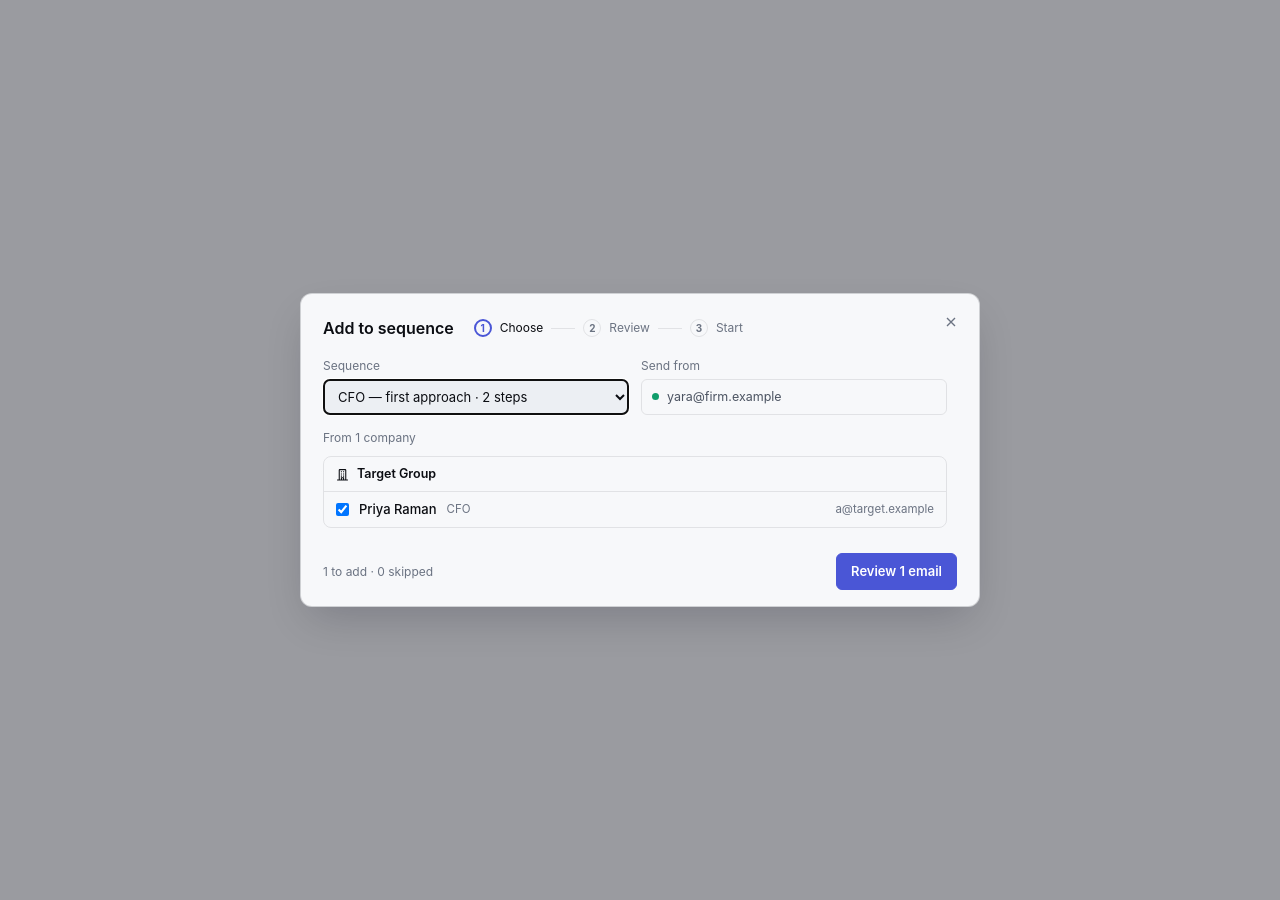
Test case: EnrolDialog › will not start at a time already past
Click the button "Review 1 email".
click(897, 571)  # box [836,553,957,590]
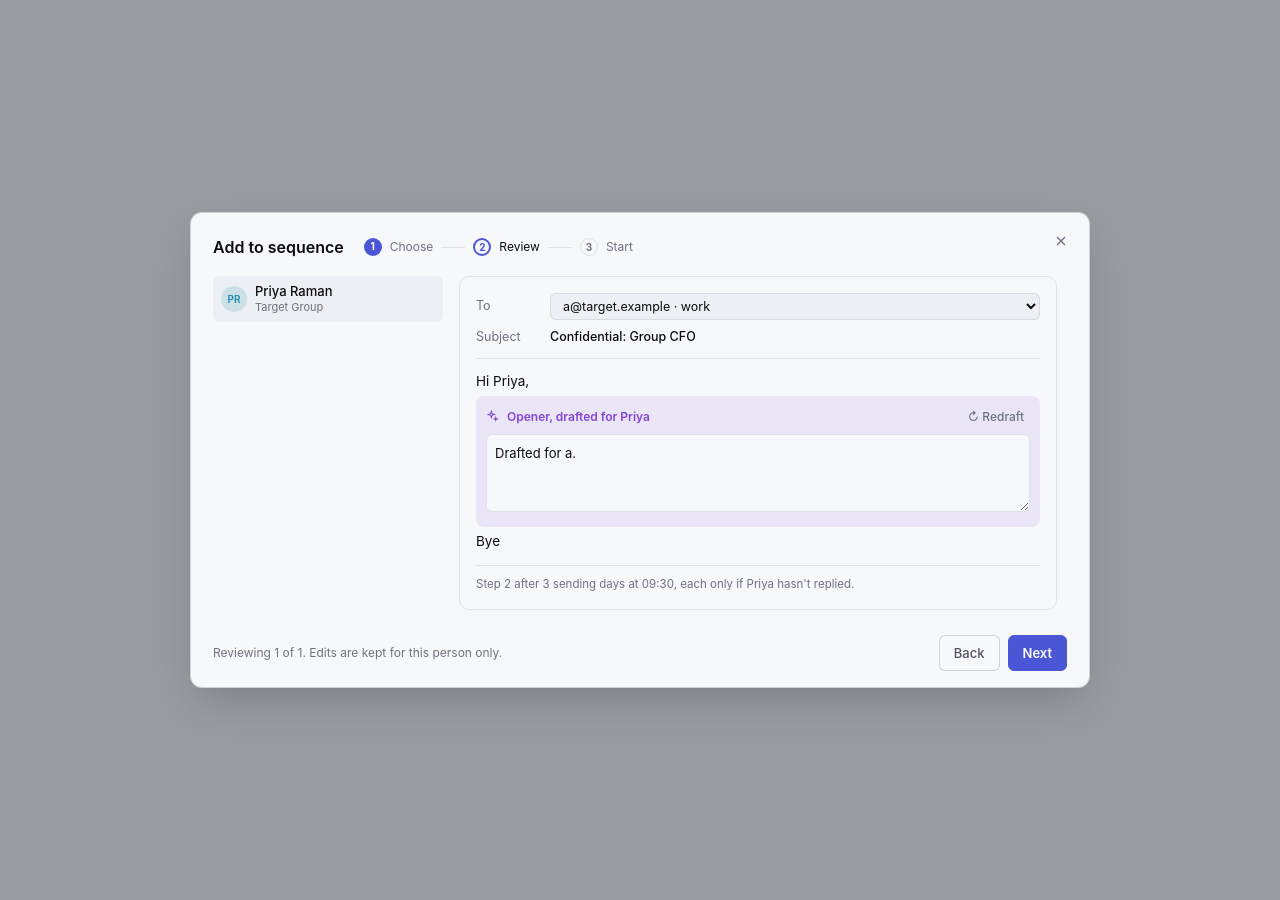
Check: the text box named "Opener" holds "Drafted for a.", box [486,434,1030,512]
Click the button "Next".
click(1037, 653)  # box [1008,635,1067,671]
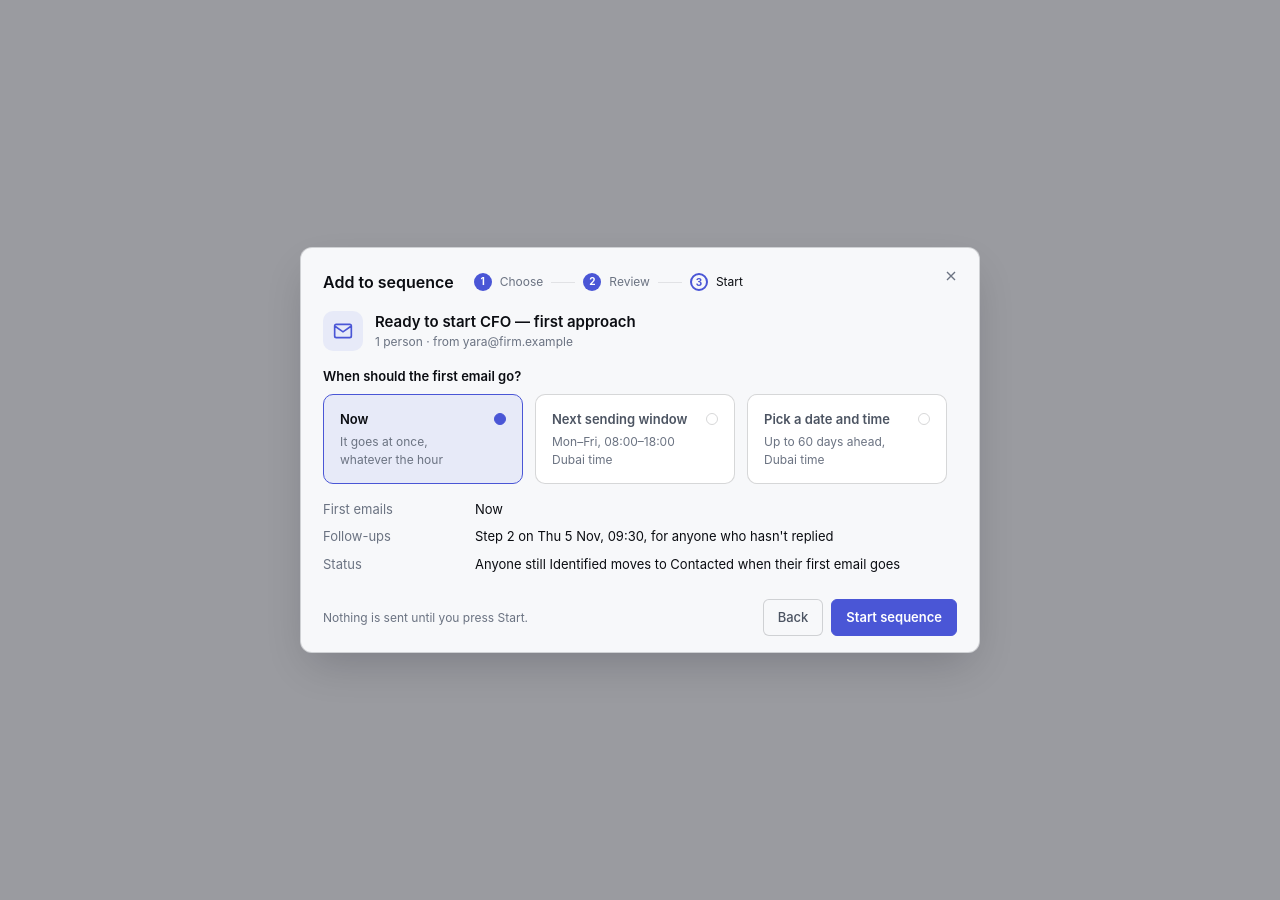
Click the radio button labelled "Pick a date and time Up to 60 days ahead, Dubai time".
click(847, 439)  # box [747,394,947,484]
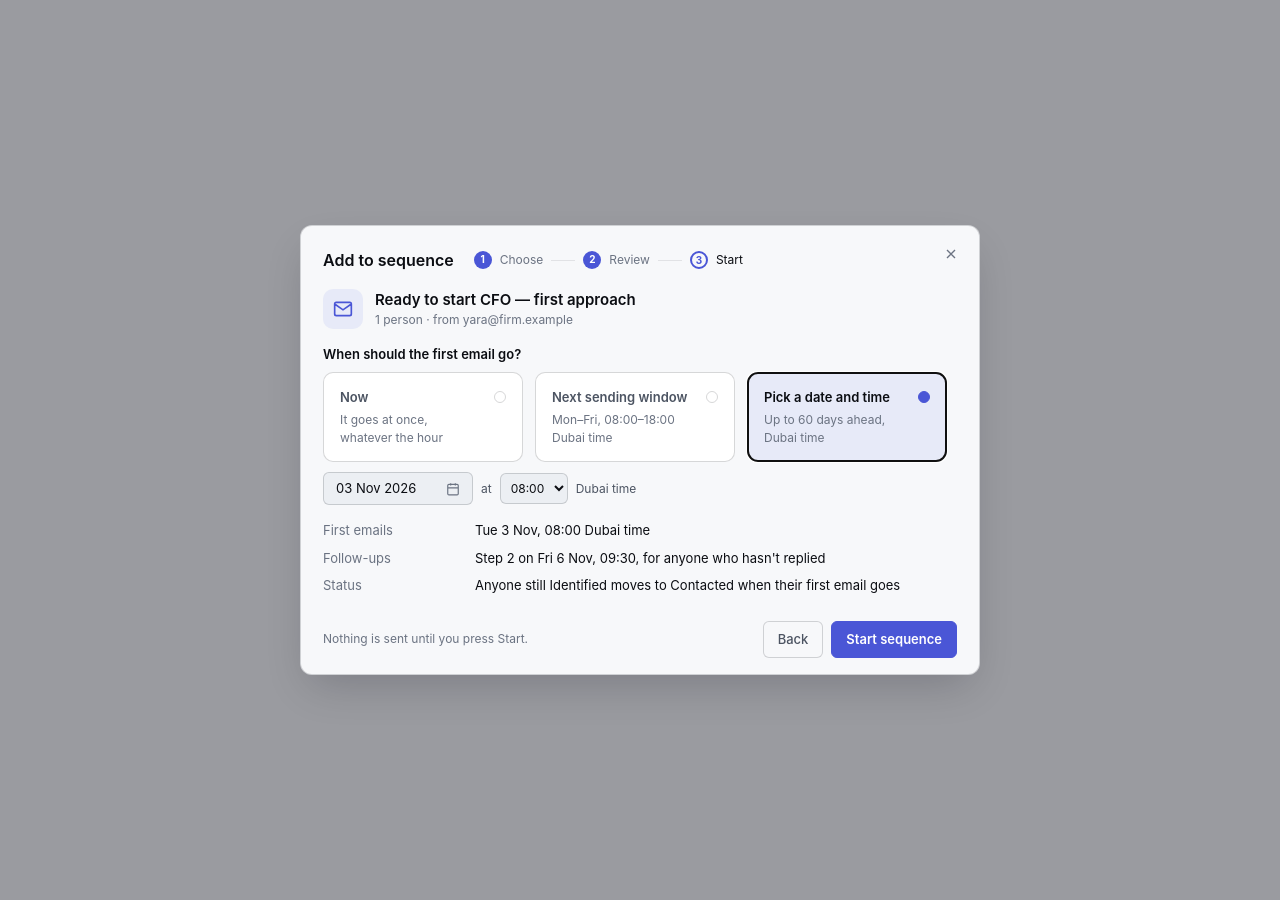
Type "2020-01-06" into the date field named "Start date".
click(398, 489); type("2020-01-06")  # box [323,472,473,505]
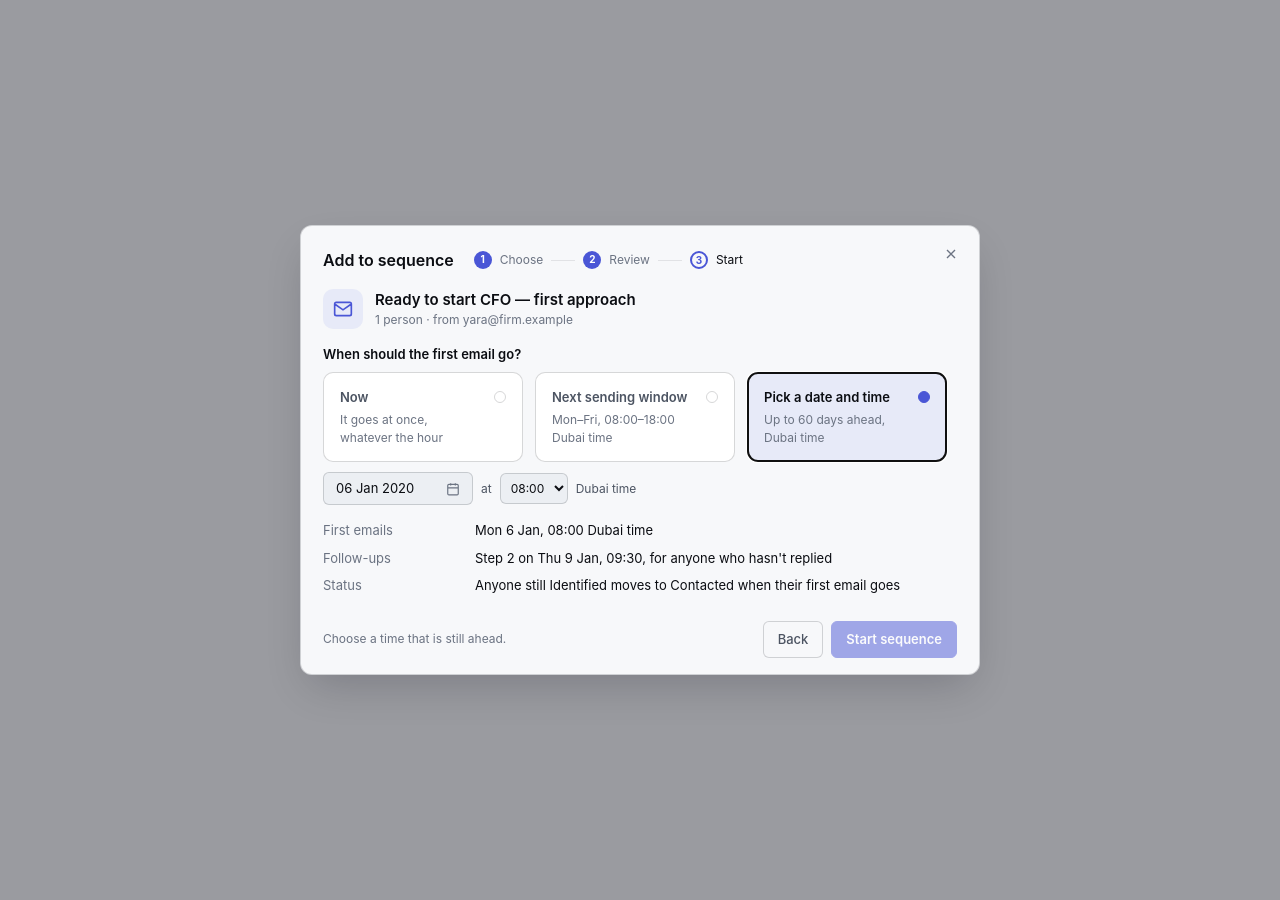
Check: the text "Choose a time that is still ahead." is shown, box [323,630,506,648]
Check: the button "Start sequence" is disabled, box [831,621,957,658]
